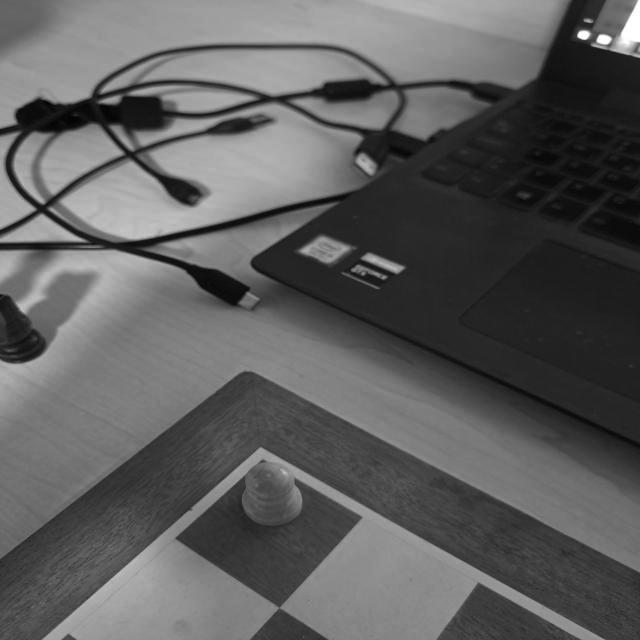chess-table-corners: (210, 428, 318, 494)
